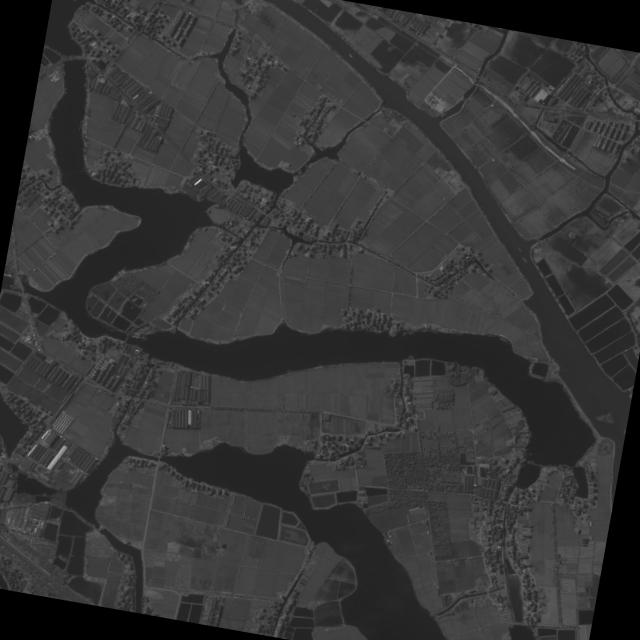ship: (521, 255, 529, 263), (438, 110, 447, 117), (468, 172, 475, 181), (516, 243, 522, 252)
